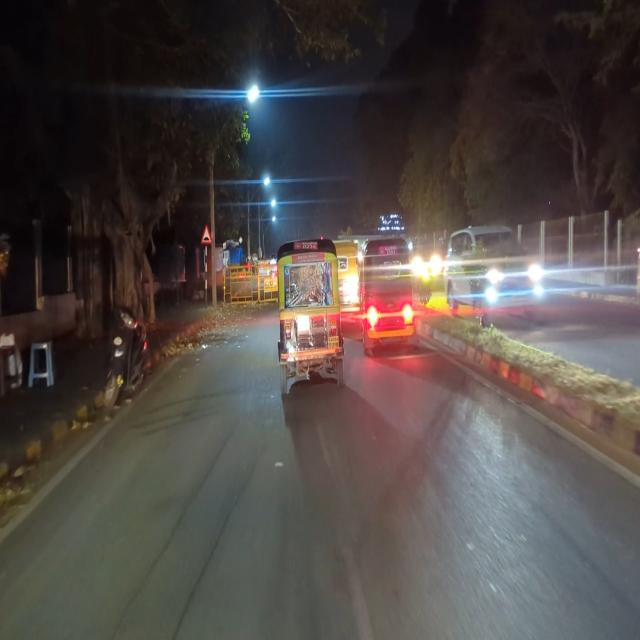bien_cam: (200, 223, 213, 245)
